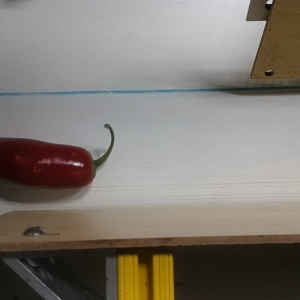Cut Point: (73, 145, 106, 186)
